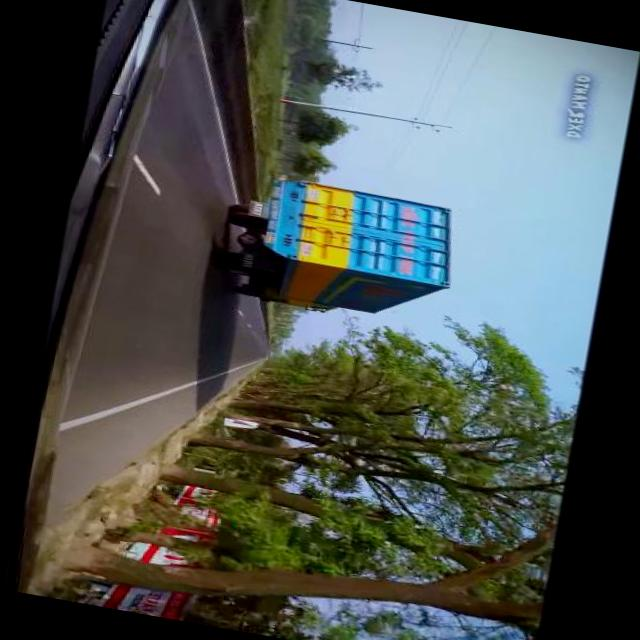truck: (204, 165, 470, 338)
